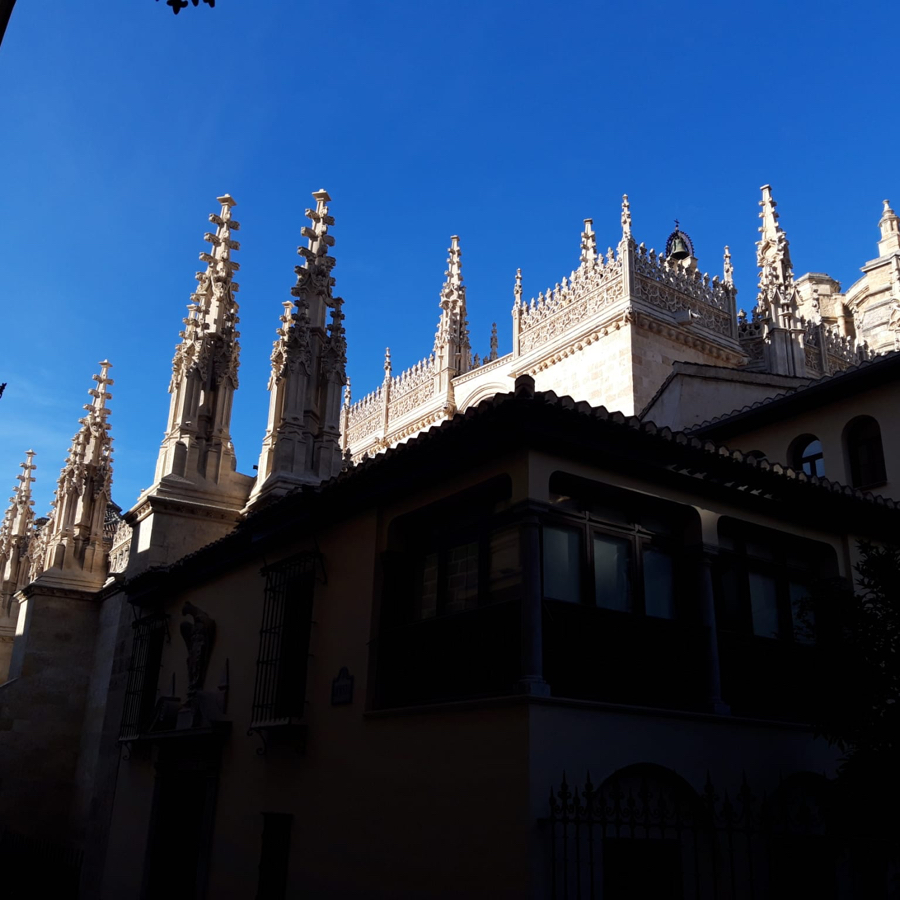pinaculo-gotico: (271, 185, 349, 354), (180, 190, 253, 344), (60, 358, 122, 486), (748, 179, 798, 295), (435, 228, 473, 369), (1, 444, 43, 543)
